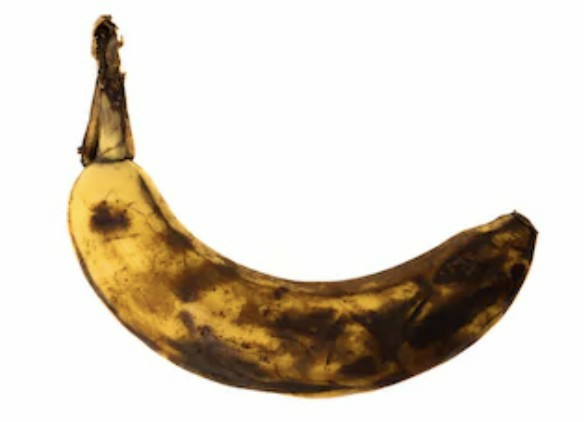rotten_banana: (68, 23, 538, 395)
